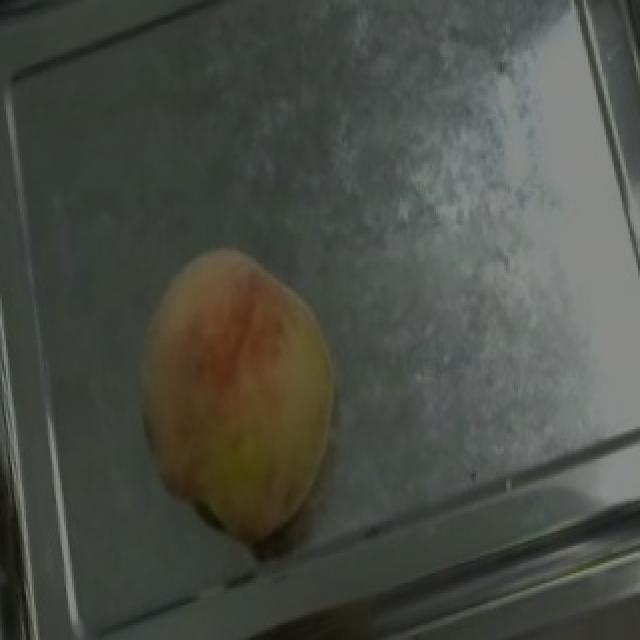Fruit: (102, 223, 386, 573)
